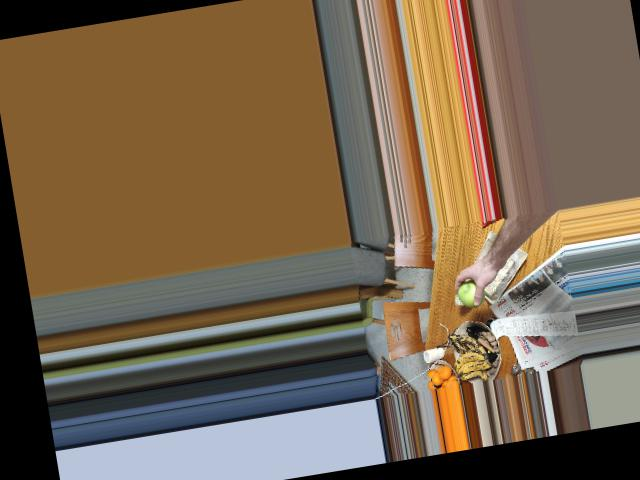apple: (454, 276, 488, 309)
